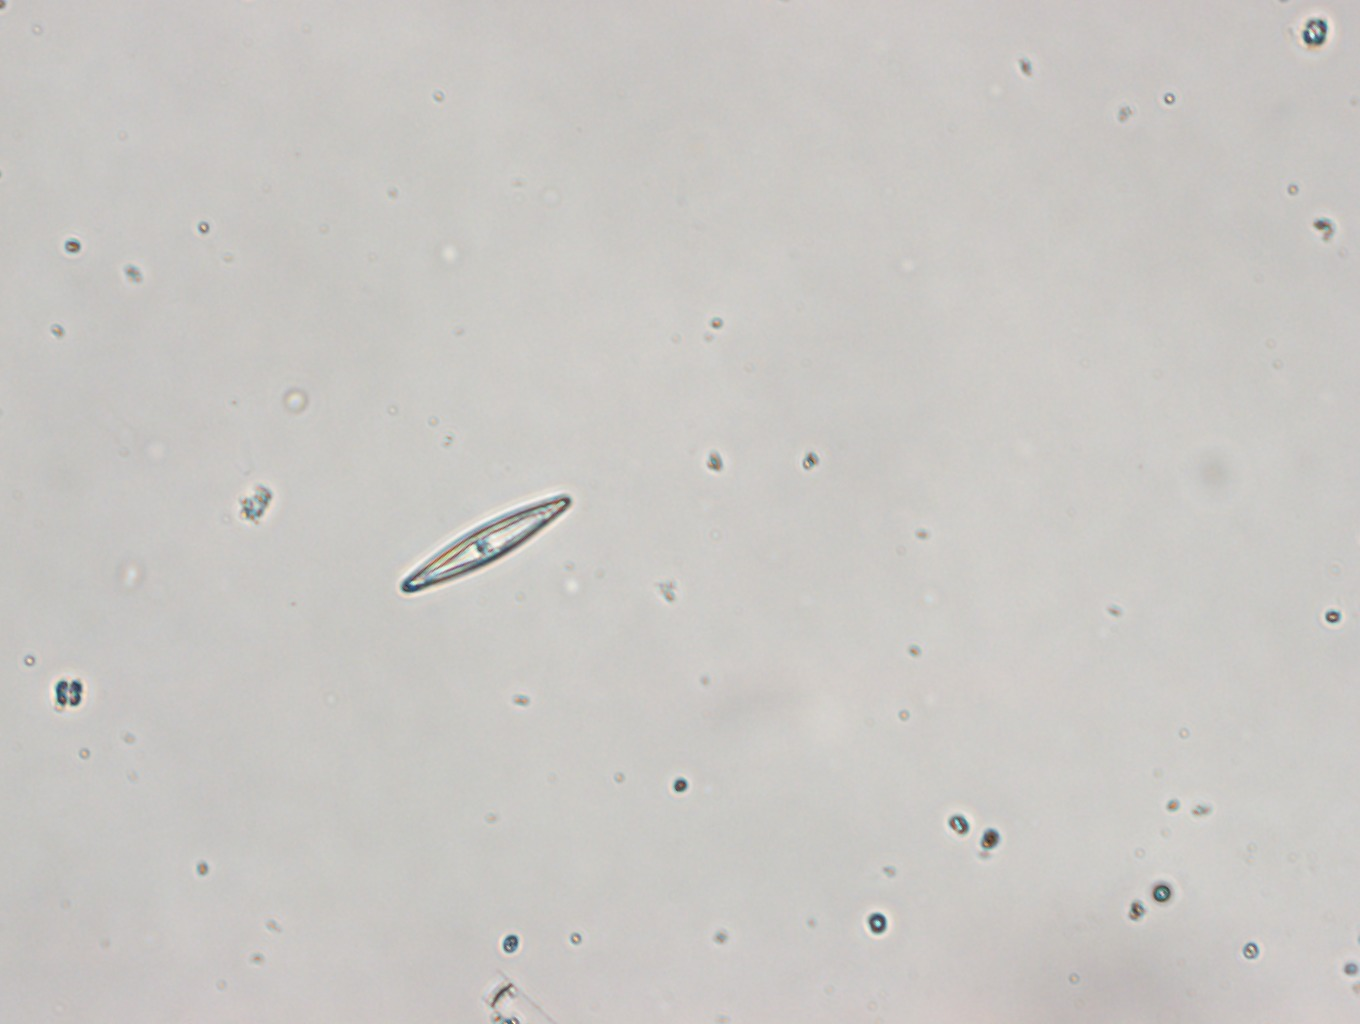navicula: (396, 488, 573, 595)
